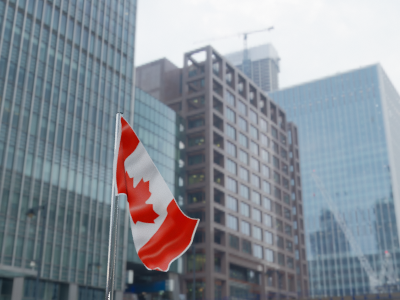Canada flag: (114, 115, 202, 274)
